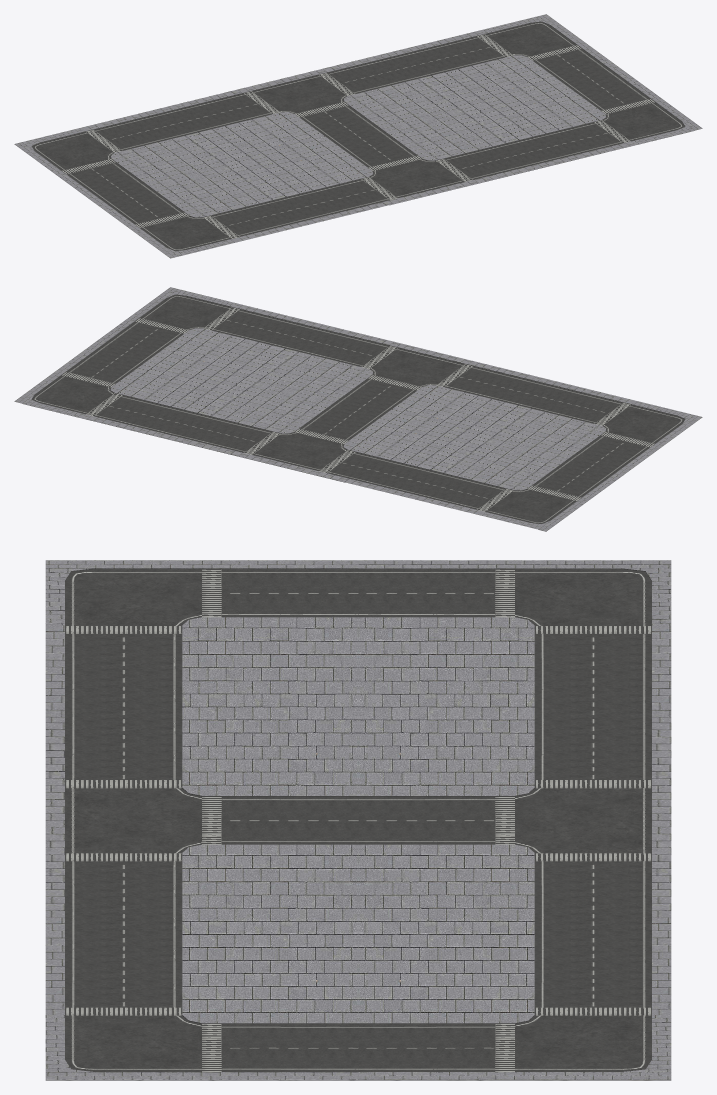
The model's file is Map_SUI_Stage_2.fbx.
3 renders of one model, top to bottom at view 1: azimuth 30°, elevation 25°; view 2: azimuth 150°, elevation 25°; view 3: azimuth 270°, elevation 25°, orthographic. The views are drawn at different scales.
Visible parts, largest first — view 1: Plane.017; view 2: Plane.017; view 3: Plane.017.
Part boxes in pixels (x1,y1,x2,y2): Plane.017: [14, 14, 702, 258]; Plane.017: [14, 287, 702, 531]; Plane.017: [45, 560, 671, 1080].
Size of the model in its own units: 4929 by 2.2 by 2509.
